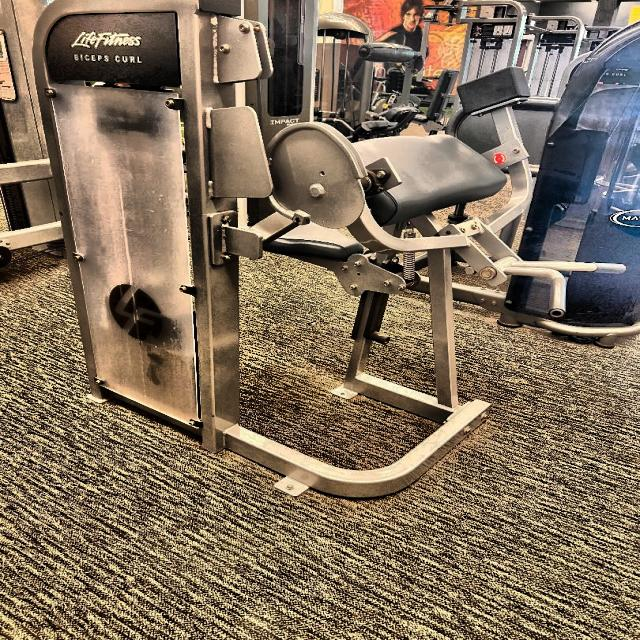bicep_curl_machine: (21, 2, 640, 511), (256, 68, 640, 498), (286, 72, 636, 335), (362, 192, 630, 318), (56, 53, 157, 69)
